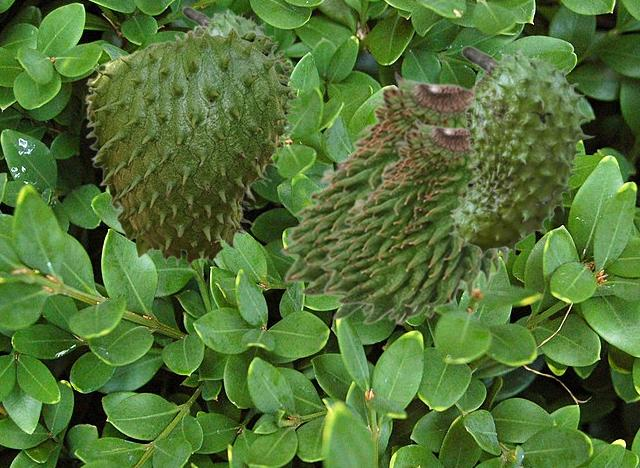guyabano: (279, 70, 499, 320), (85, 24, 300, 270), (319, 116, 511, 324), (447, 45, 594, 258), (181, 6, 279, 68)
